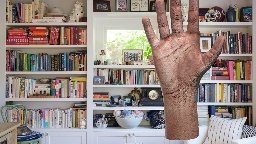Mano_aperta: (138, 0, 227, 90)
